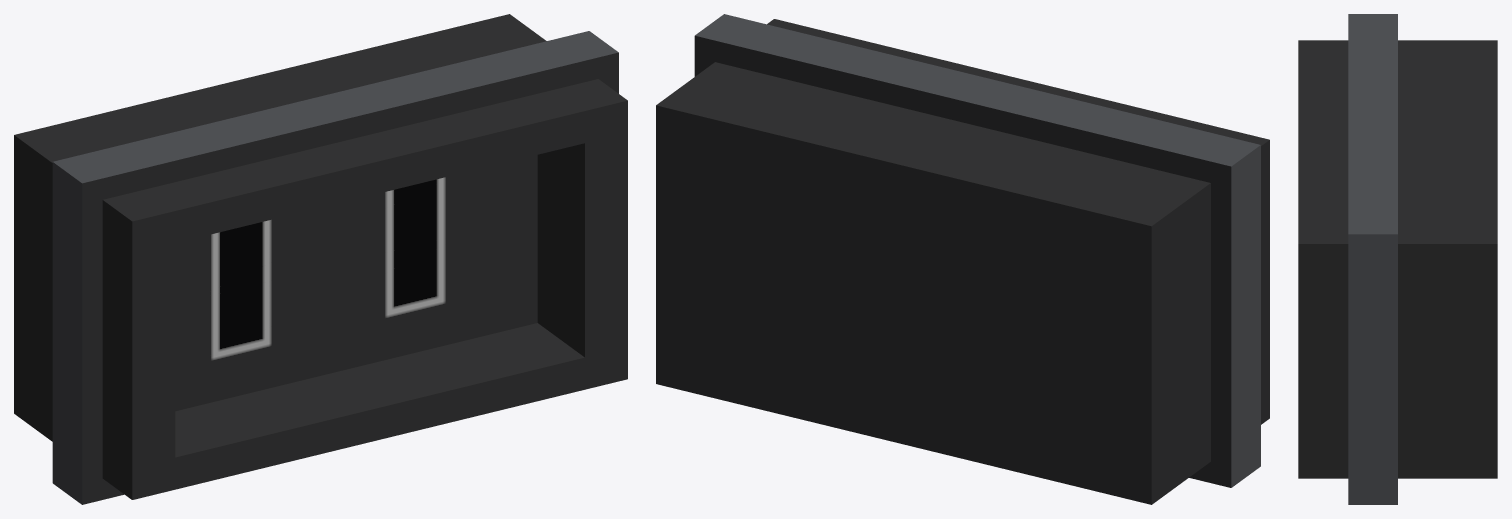
The model's file is a8efa23d-ee1a-4f26-9b40-24e0602e532f.glb.
3 renders of one model, left to right at view 1: azimuth 30°, elevation 25°; view 2: azimuth 150°, elevation 25°; view 3: azimuth 270°, elevation 25°, orthographic. The views are drawn at different scales.
Parts seen in each view (by area): view 1: Socket_1; view 2: Socket_1; view 3: Socket_1.
Boxes of the visible parts, bbox=[...] form: Socket_1: bbox=[14, 14, 627, 504]; Socket_1: bbox=[656, 14, 1269, 504]; Socket_1: bbox=[1298, 14, 1497, 504].
Size of the model in its own units: 262 by 150 by 100.
1 material, 1 textured.
